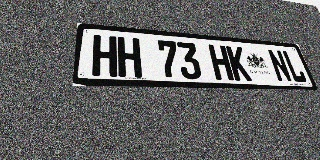3: (176, 42, 202, 79)
7: (156, 40, 181, 79)
H: (92, 35, 117, 77), (117, 37, 142, 78), (208, 44, 234, 80)
K: (226, 46, 252, 81)
L: (281, 50, 308, 83)
N: (267, 49, 293, 82)
